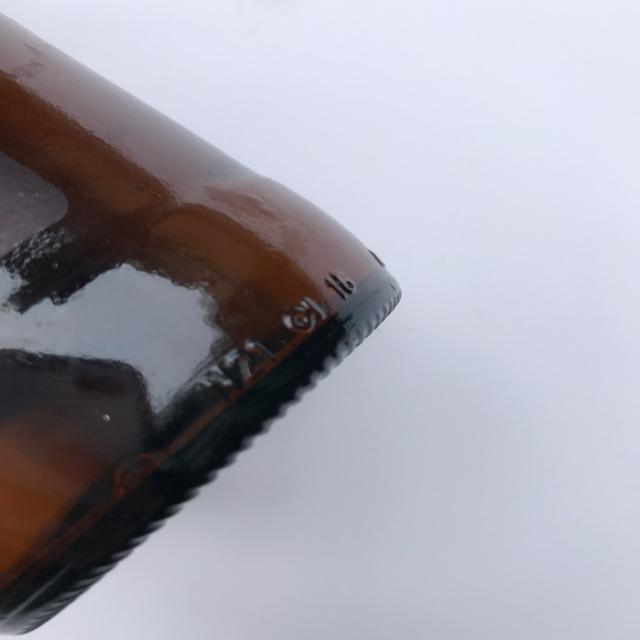glass: (0, 0, 403, 636)
